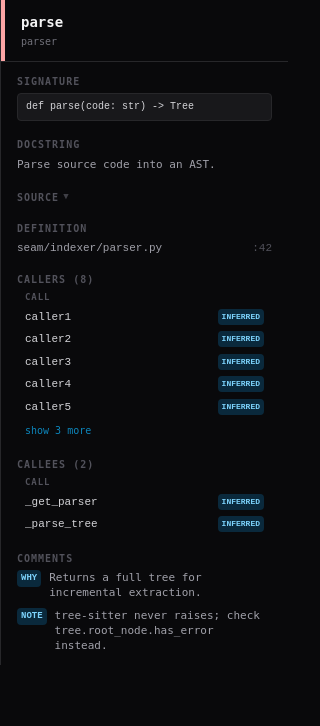
Scenario: DetailPanel S3 — per-group cap and show-more › expands the group when 'show more' is clicked
This screenshot has width=320, height=726.
Expected: the heading "parse" is shown, [21, 14, 63, 30]
Click the button "show 3 more".
click(58, 431)  # box [17, 421, 99, 440]
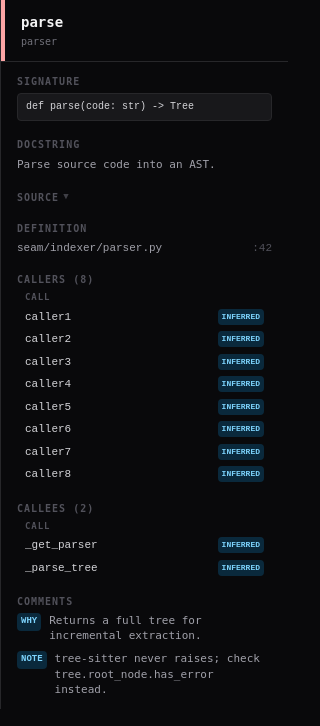
Expected: the button titled "caller6" is shown, [17, 419, 272, 440]
Expected: the button titled "caller7" is shown, [17, 442, 272, 462]
Expected: the button titled "caller8" is shown, [17, 464, 272, 485]
